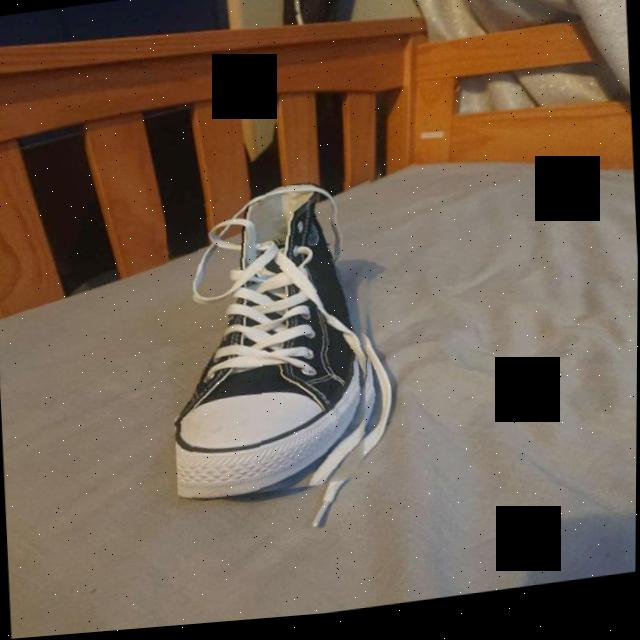shoe: (163, 180, 387, 510)
